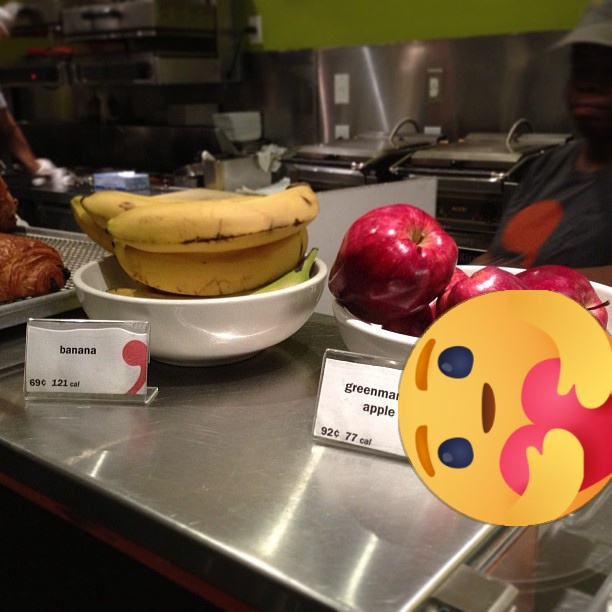care: (398, 290, 612, 526)
